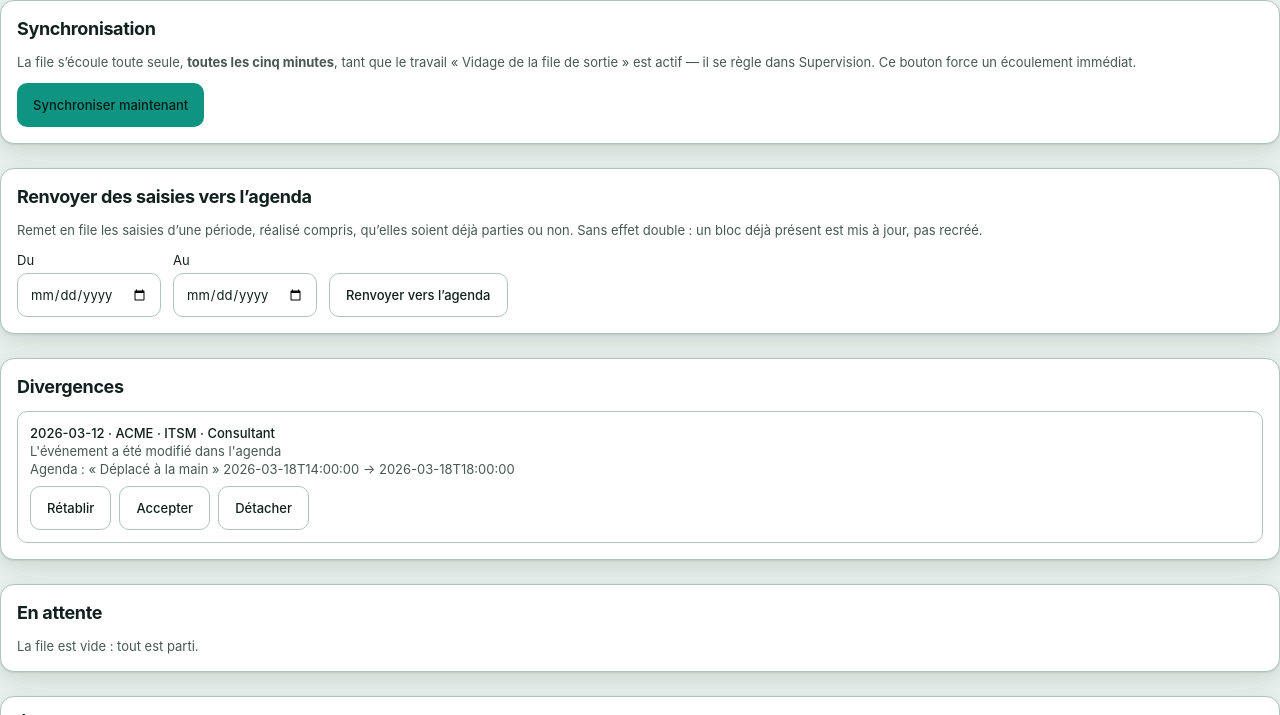
Test: divergences › affiche le motif quand l arbitrage est refusé
Click the button "Accepter".
click(165, 508)  # box [119, 486, 210, 530]
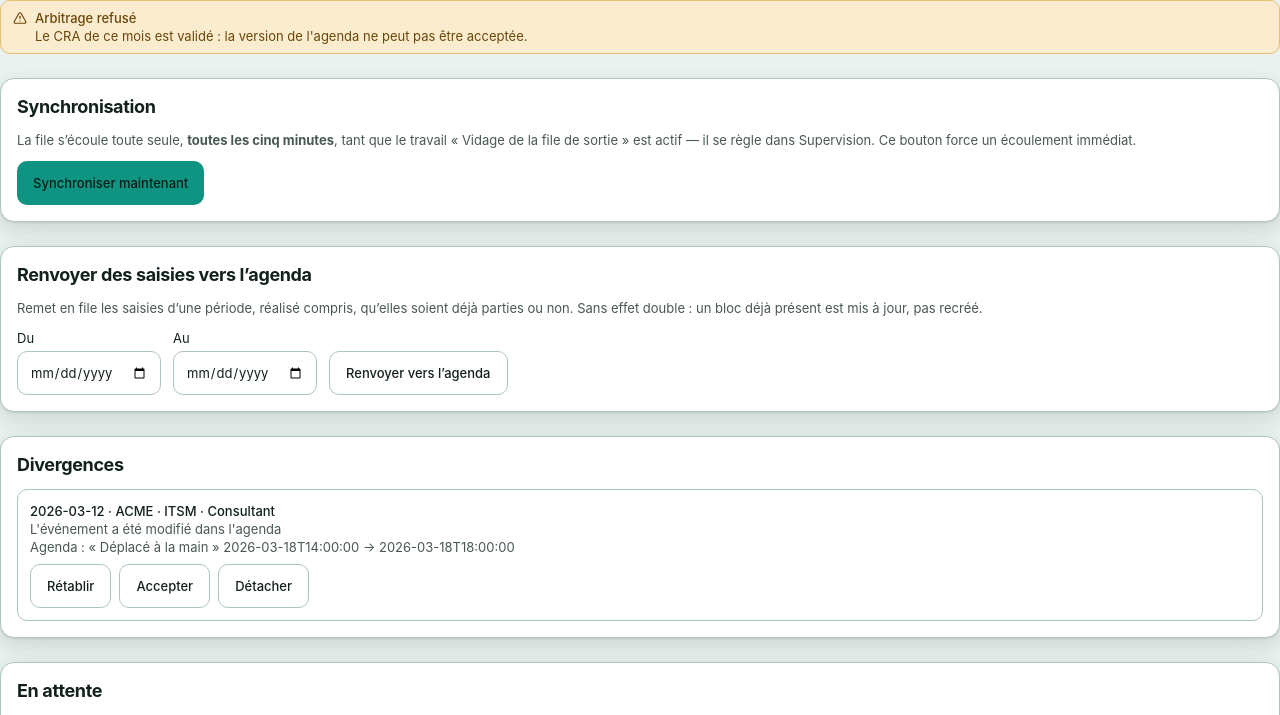
Expected: the message shows "validé", [35, 28, 528, 44]
